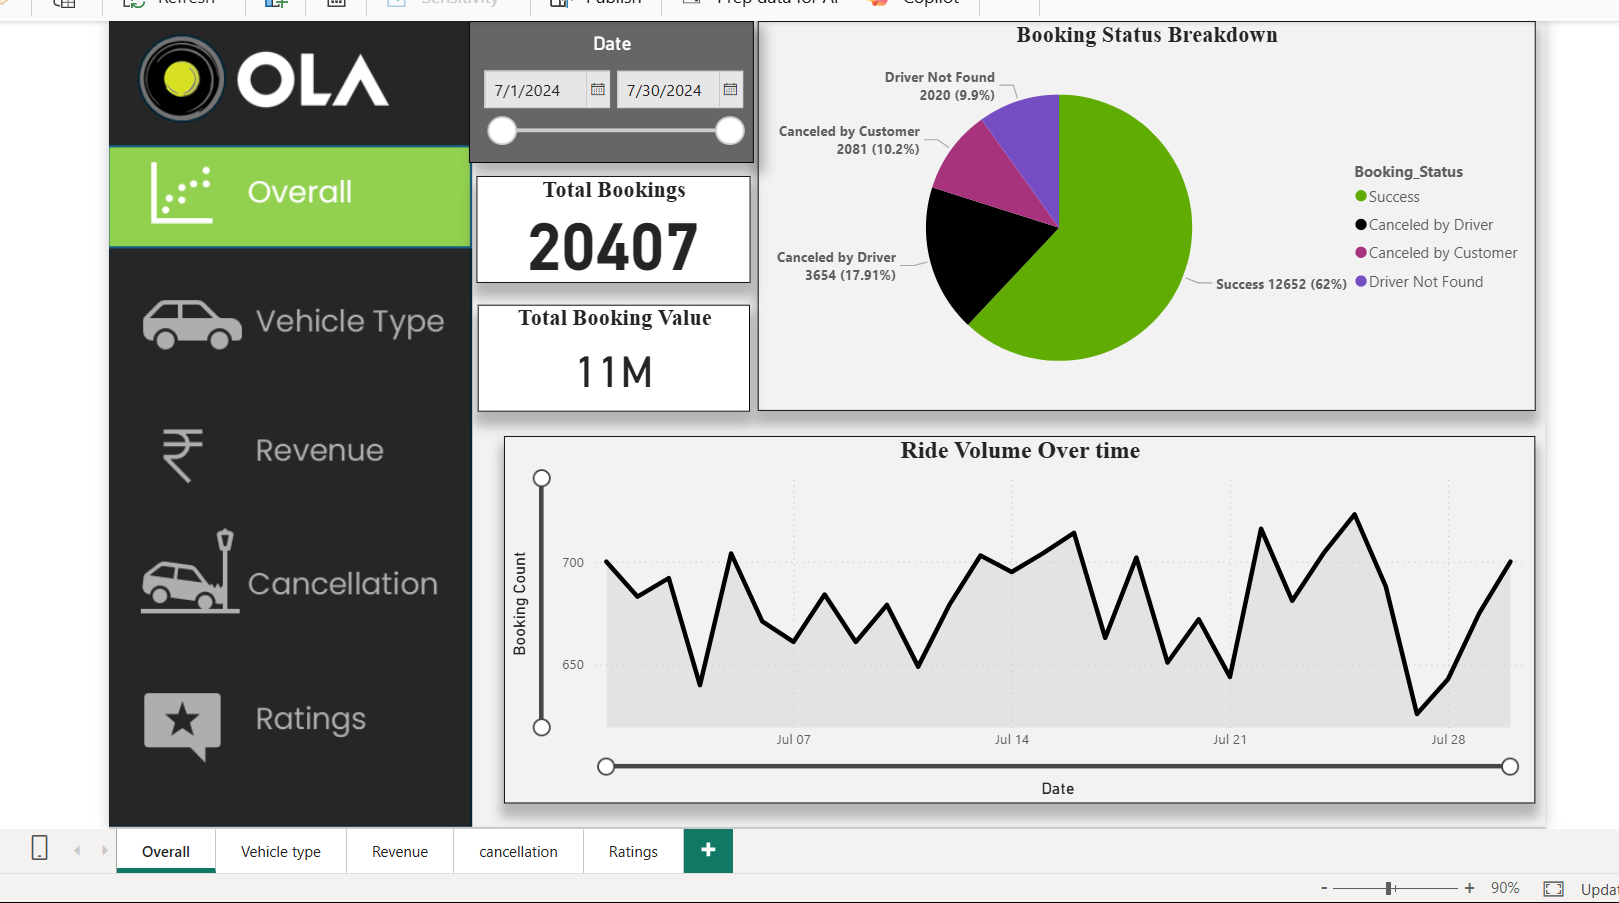

Layout of this report page (visuals, bound fields, positions):
{"tool":"powerbi","page":{"name":"Overall","canvas":[1280,720],"ordinal":0},"visuals":[{"type":"actionButton","box":[0,109.8,323.3,95.3],"z":0},{"type":"actionButton","box":[0,222,323.3,95.3],"z":1000},{"type":"actionButton","box":[0,333,323.3,95.3],"z":2000},{"type":"actionButton","box":[0,452.4,323.3,95.3],"z":3000},{"type":"actionButton","box":[0,570.6,323.3,95.3],"z":4000},{"type":"lineChart","title":"Ride Volume Over time","fields":{"Y":["CountNonNull(Bookings-20000-Rows xlsx - July.Booking_ID)"],"Category":["Bookings-20000-Rows xlsx - July.Date"]},"box":[352.3,369.2,918.1,326.9],"z":5000},{"type":"pieChart","title":"Booking Status Breakdown","fields":{"Category":["Bookings-20000-Rows xlsx - July.Booking_Status"],"Y":["CountNonNull(Bookings-20000-Rows xlsx - July.Booking_Status)"]},"box":[577.9,0,692.5,347.5],"z":6000},{"type":"slicer","title":"Date","fields":{"Values":["Bookings-20000-Rows xlsx - July.Date"]},"box":[321.1,0,253.9,126.2],"z":7000},{"type":"card","title":"Total Bookings","fields":{"Values":["CountNonNull(Bookings-20000-Rows xlsx - July.Booking_ID)"]},"box":[326.9,137.5,243.7,95.3],"z":8000},{"type":"card","title":"Total Booking Value","fields":{"Values":["Sum(Bookings-20000-Rows xlsx - July.Booking_Value)"]},"box":[328.2,252.1,242.5,95.3],"z":9000}]}

Visuals, with their boxes on the page's 1280x720 design canvas (x1, y1, x2, y2). These are canvas units, not pixel positions in the 1619x903 screenshot, which may show the page scaled, cropped or inside an application window:
actionButton: [x1=0, y1=110, x2=323, y2=205]
actionButton: [x1=0, y1=222, x2=323, y2=317]
actionButton: [x1=0, y1=333, x2=323, y2=428]
actionButton: [x1=0, y1=452, x2=323, y2=548]
actionButton: [x1=0, y1=571, x2=323, y2=666]
"Ride Volume Over time" lineChart: [x1=352, y1=369, x2=1270, y2=696]
"Booking Status Breakdown" pieChart: [x1=578, y1=0, x2=1270, y2=348]
"Date" slicer: [x1=321, y1=0, x2=575, y2=126]
"Total Bookings" card: [x1=327, y1=138, x2=571, y2=233]
"Total Booking Value" card: [x1=328, y1=252, x2=571, y2=347]
